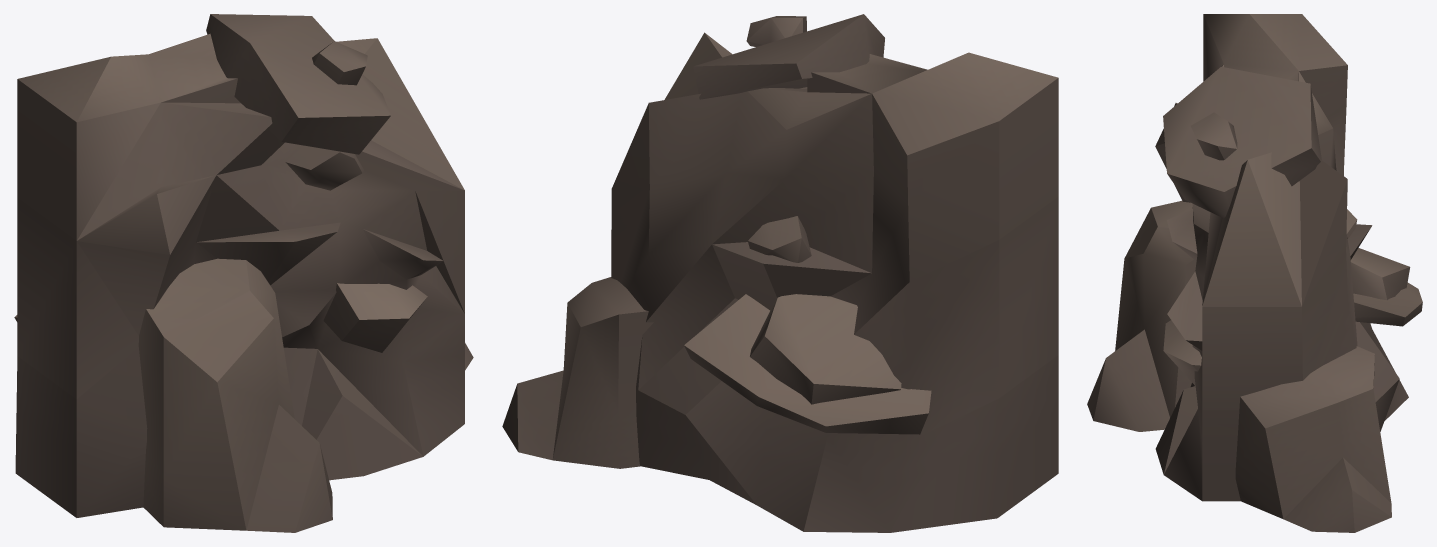
File: rubble_half.glb
3 renders of one model, left to right at view 1: azimuth 30°, elevation 25°; view 2: azimuth 150°, elevation 25°; view 3: azimuth 270°, elevation 25°, orthographic. The views are drawn at different scales.
Visible parts, largest first — view 1: rubble_half; view 2: rubble_half; view 3: rubble_half.
Boxes of the visible parts, x1,y1,x2,y2 form: rubble_half: (14, 14, 473, 532); rubble_half: (502, 14, 1058, 532); rubble_half: (1087, 14, 1422, 532).
Size of the model in its own units: 4 by 3.5 by 3.
1 material, 1 textured.
